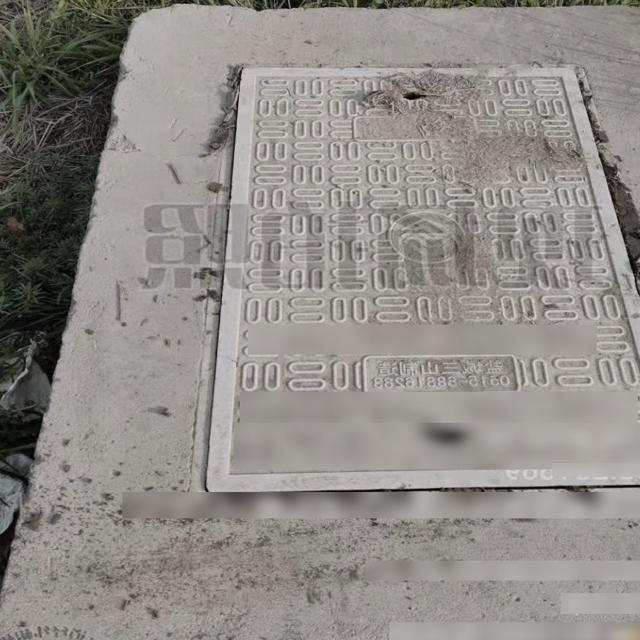good: (182, 4, 640, 507)
